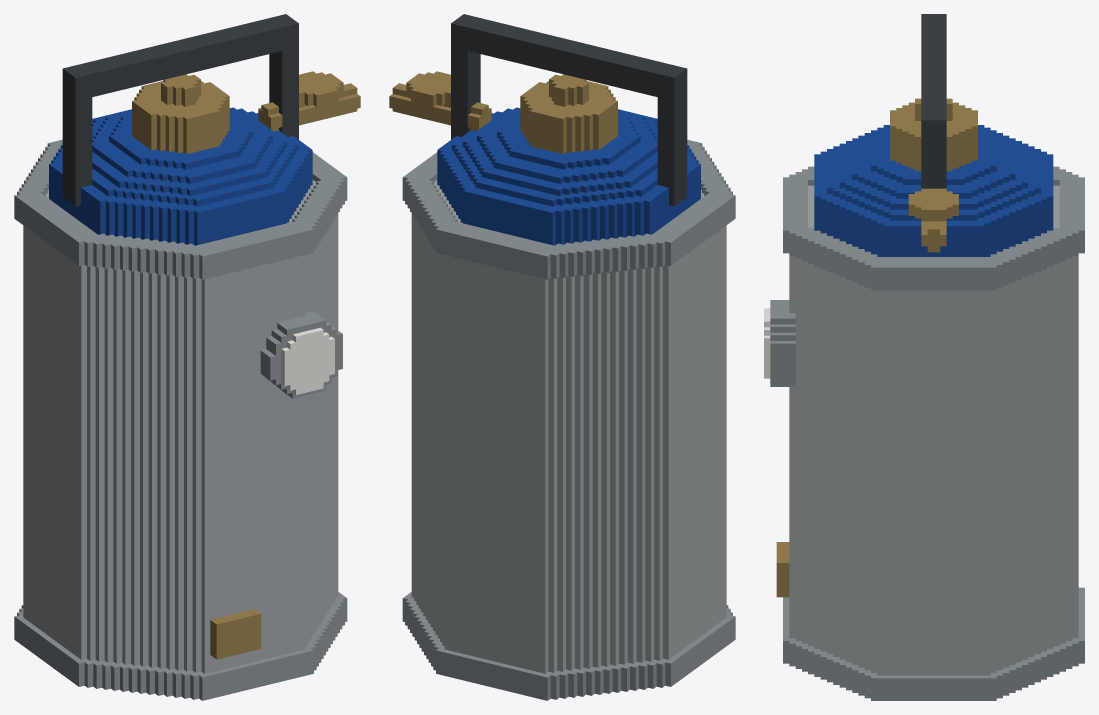
Rendered from acetylene_machine.glb.
3 renders of one model, left to right at view 1: azimuth 30°, elevation 25°; view 2: azimuth 150°, elevation 25°; view 3: azimuth 270°, elevation 25°, orthographic. The views are drawn at different scales.
Visible parts, largest first — view 1: acetylene_machine:compound; view 2: acetylene_machine:compound; view 3: acetylene_machine:compound.
Part boxes in pixels (<box>): acetylene_machine:compound: <box>14,14,360,700</box>; acetylene_machine:compound: <box>389,14,735,700</box>; acetylene_machine:compound: <box>764,14,1084,700</box>.
Bounding box in the file's own units: 0.22 × 0.4 × 0.204.
